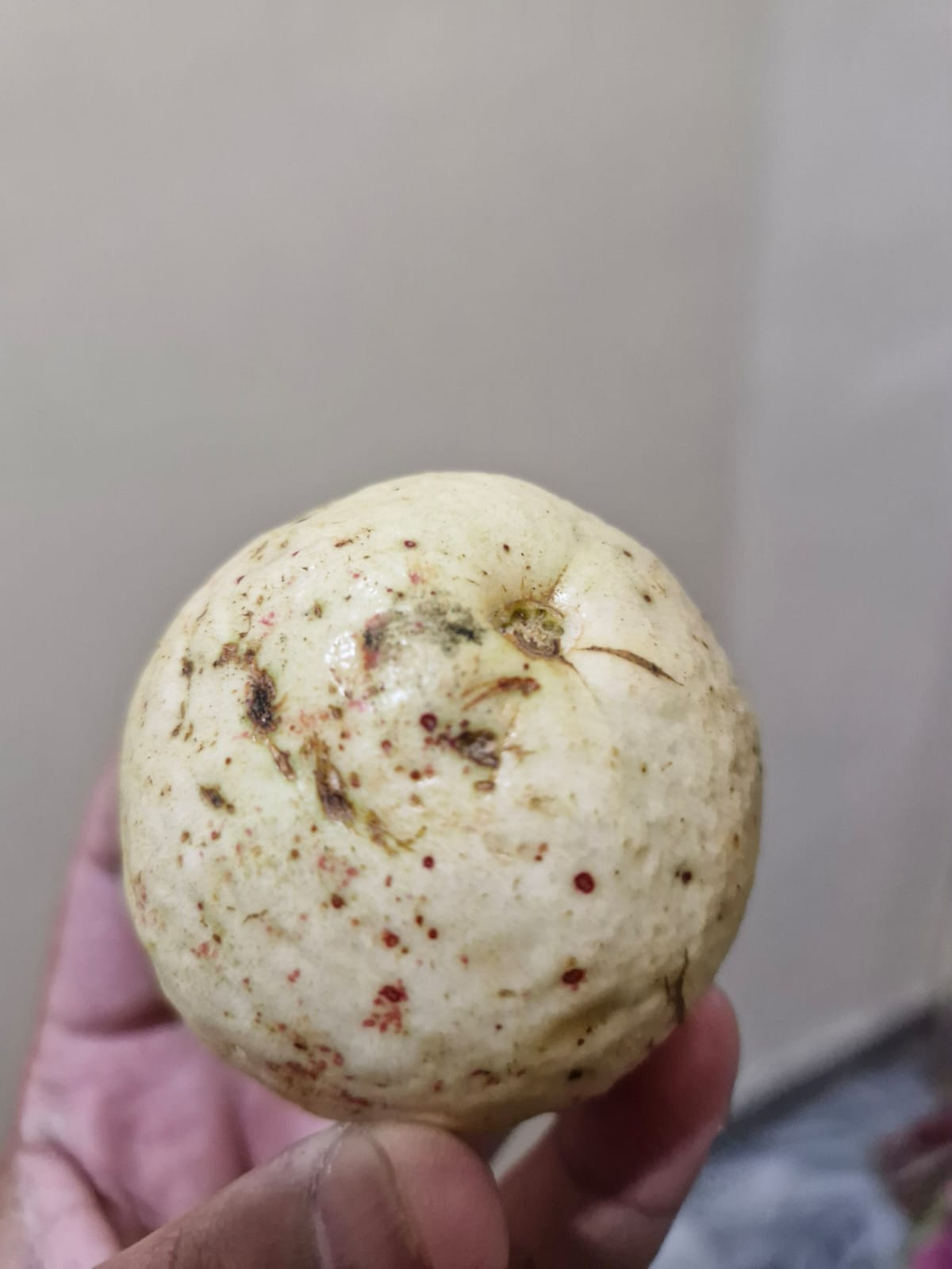guava: (280, 5, 859, 1125)
